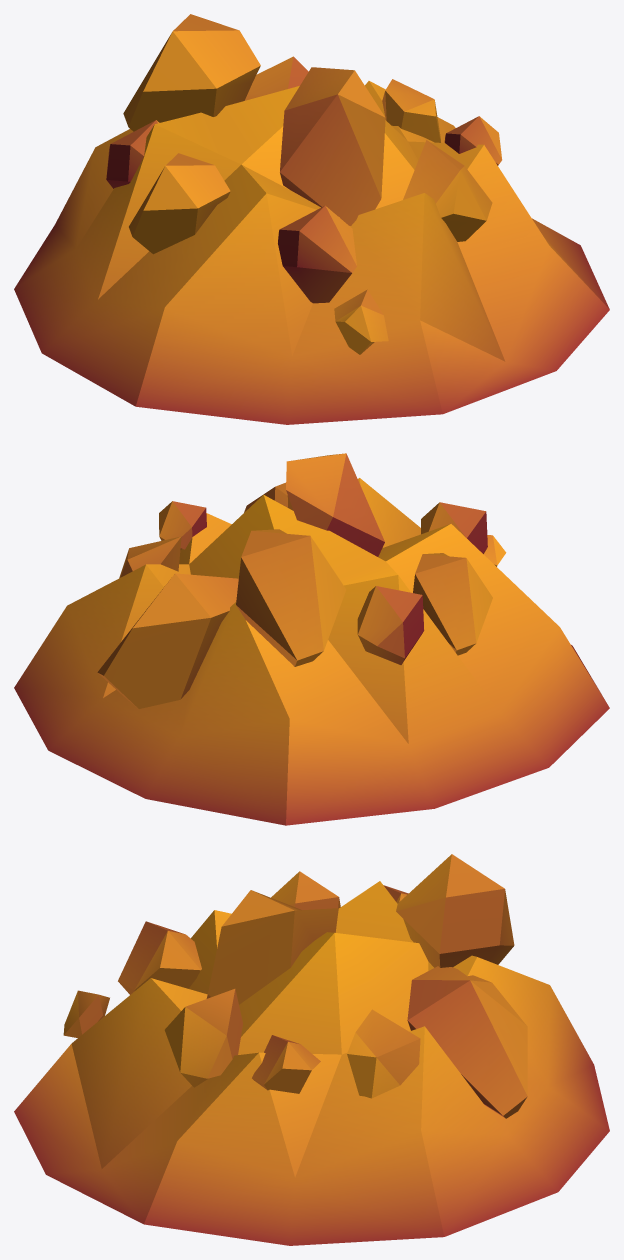
The model's file is mineral_ore.glb.
3 views of the same model, one above another, from view 1: azimuth 30°, elevation 25°; view 2: azimuth 150°, elevation 25°; view 3: azimuth 270°, elevation 25° (orthographic). The views are drawn at different scales.
Parts seen in each view (by area): view 1: mineral_ore; view 2: mineral_ore; view 3: mineral_ore.
Boxes of the visible parts, x1,y1,x2,y2 form: mineral_ore: [14, 14, 609, 424]; mineral_ore: [14, 453, 609, 825]; mineral_ore: [14, 854, 609, 1245].
Bounding box in the file's own units: 1.44 × 0.6408 × 1.45.
Materials: 1 (1 with a texture image).
